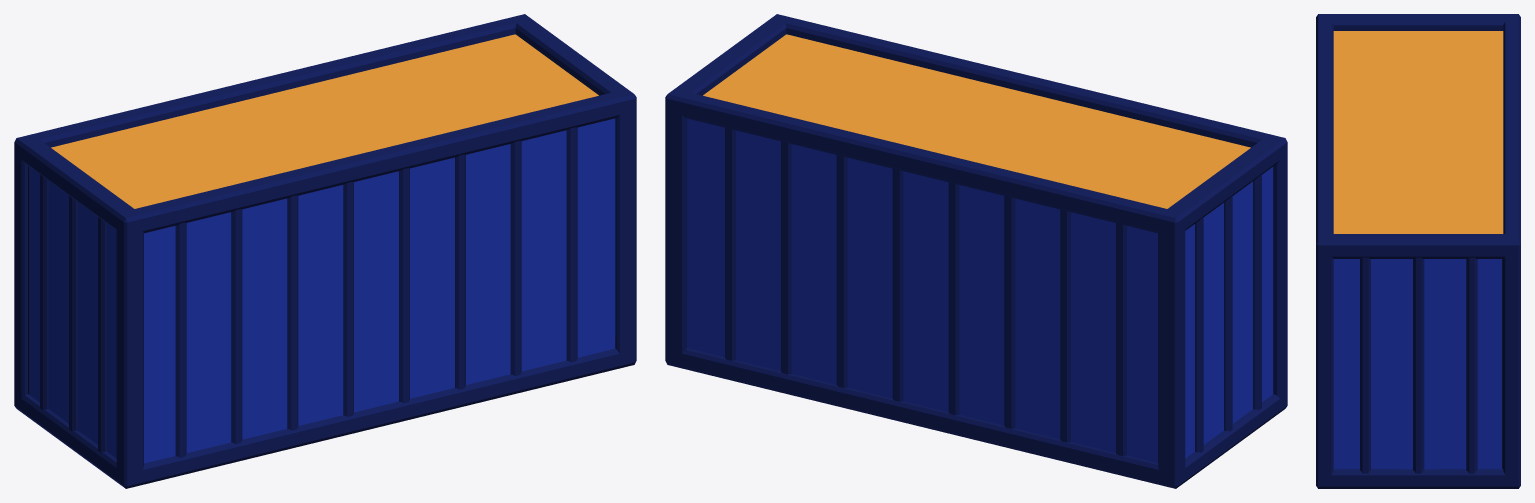
File: Conteiner.FBX
The picture shows the model from 3 angles, left to right: view 1: azimuth 30°, elevation 25°; view 2: azimuth 150°, elevation 25°; view 3: azimuth 270°, elevation 25°; orthographic projection. The views are drawn at different scales.
Parts seen in each view (by area): view 1: Box012, Object020, Object021, Object022; view 2: Box012, Object020, Object021, Object022; view 3: Box012, Object020, Object022.
Part boxes in pixels (left/top/right/bottom): Box012: left=28, top=34, right=615, bottom=463; Object020: left=14, top=14, right=636, bottom=488; Object021: left=175, top=127, right=577, bottom=457; Object022: left=40, top=174, right=106, bottom=452; Box012: left=687, top=34, right=1273, bottom=462; Object020: left=665, top=14, right=1287, bottom=488; Object021: left=725, top=128, right=1126, bottom=456; Object022: left=1195, top=174, right=1261, bottom=452; Box012: left=1333, top=31, right=1503, bottom=469; Object020: left=1316, top=14, right=1520, bottom=488; Object022: left=1360, top=257, right=1477, bottom=473.
Size of the model in its own units: 154 by 77.77 by 58.29.
